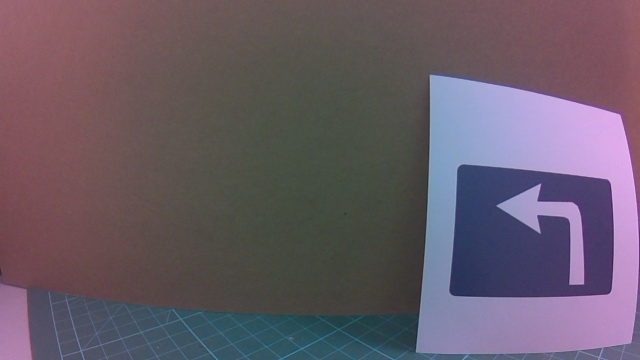left: (425, 151, 617, 322)
